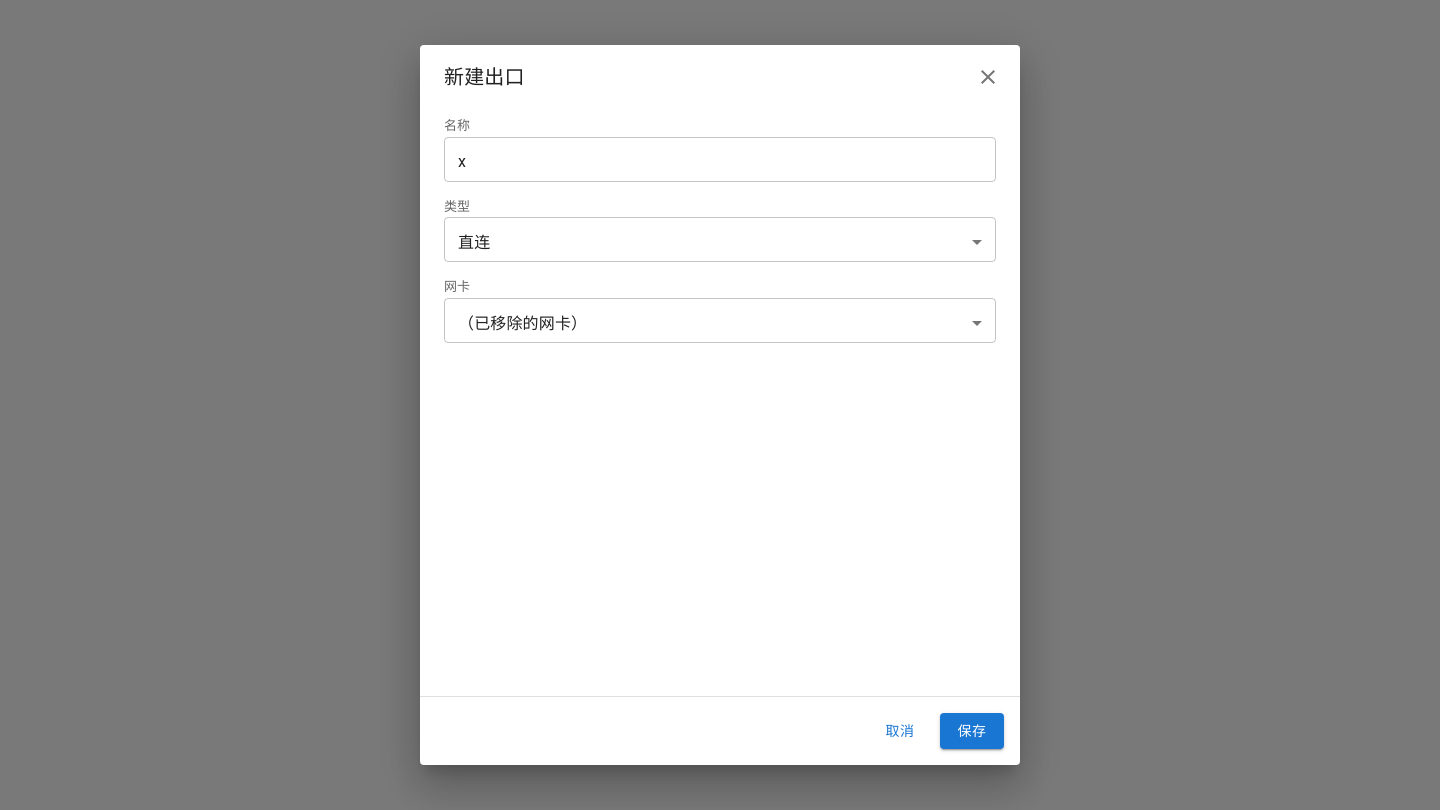
Test: ExitDialog › lists interfaces with an unavailable chip and system default
Press the mouse on the dropdown labelled "网卡" at (523, 323), box [458,314,587,333]
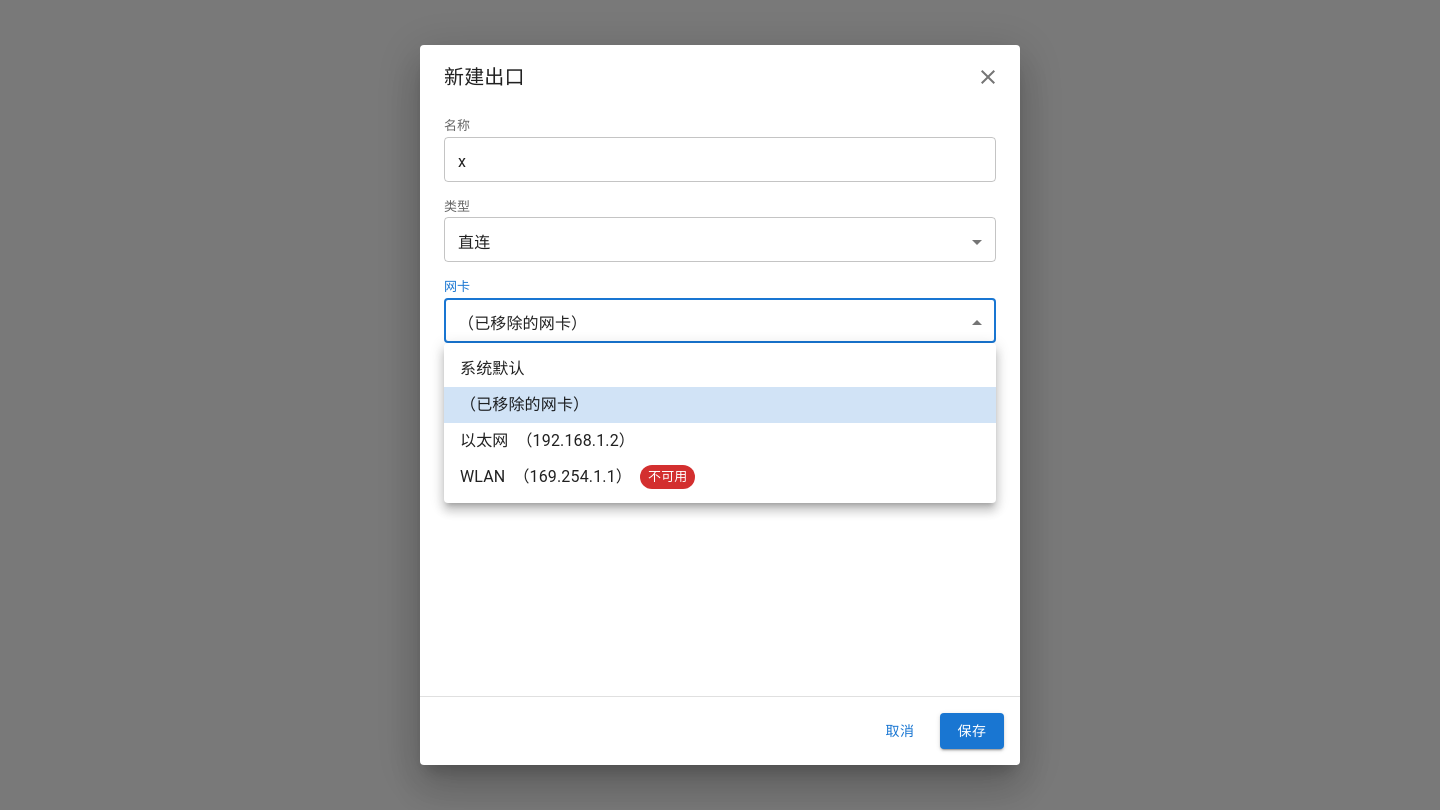
Check: the option "系统默认" is shown, box [460,359,525,378]
Check: the text "以太网" is shown, box [460,431,508,450]
Check: the text "不可用" is shown once, box [648,469,688,484]
